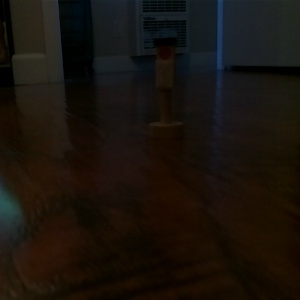traffic light red: (146, 35, 187, 141)
